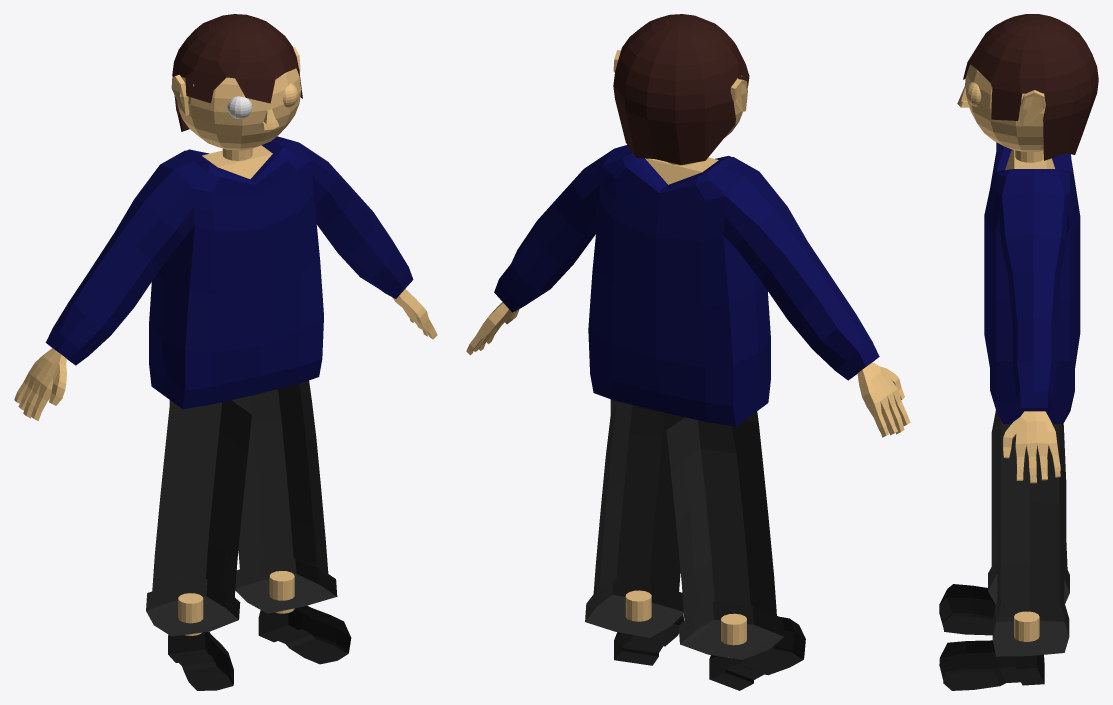
Rendered from boy_lowpoly 1.fbx.
The picture shows the model from 3 angles, left to right: view 1: azimuth 30°, elevation 25°; view 2: azimuth 150°, elevation 25°; view 3: azimuth 270°, elevation 25°; orthographic projection. The views are drawn at different scales.
Parts seen in each view (by area): view 1: Plane.002; view 2: Plane.002; view 3: Plane.002.
Boxes of the visible parts, box(x1,y1,x2,y2) form: Plane.002: box(14, 14, 437, 690); Plane.002: box(466, 14, 910, 690); Plane.002: box(939, 14, 1098, 690).
Size of the model in its own units: 110 by 160 by 36.53.
